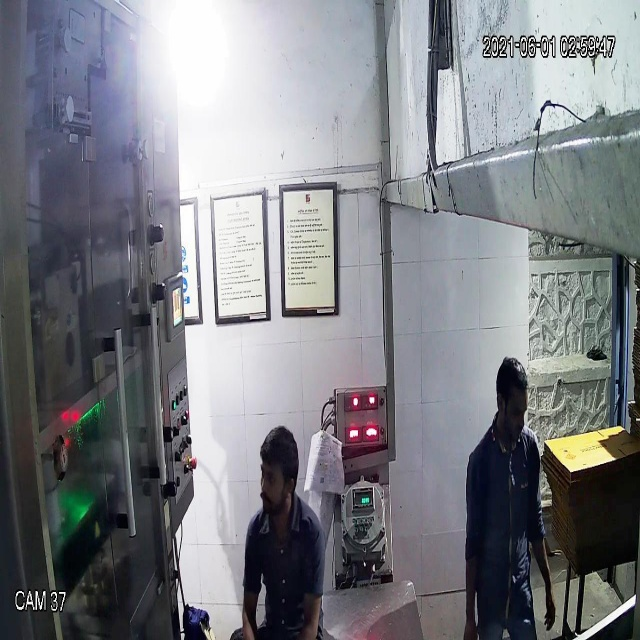Sin_gafas: (256, 460, 296, 495)
